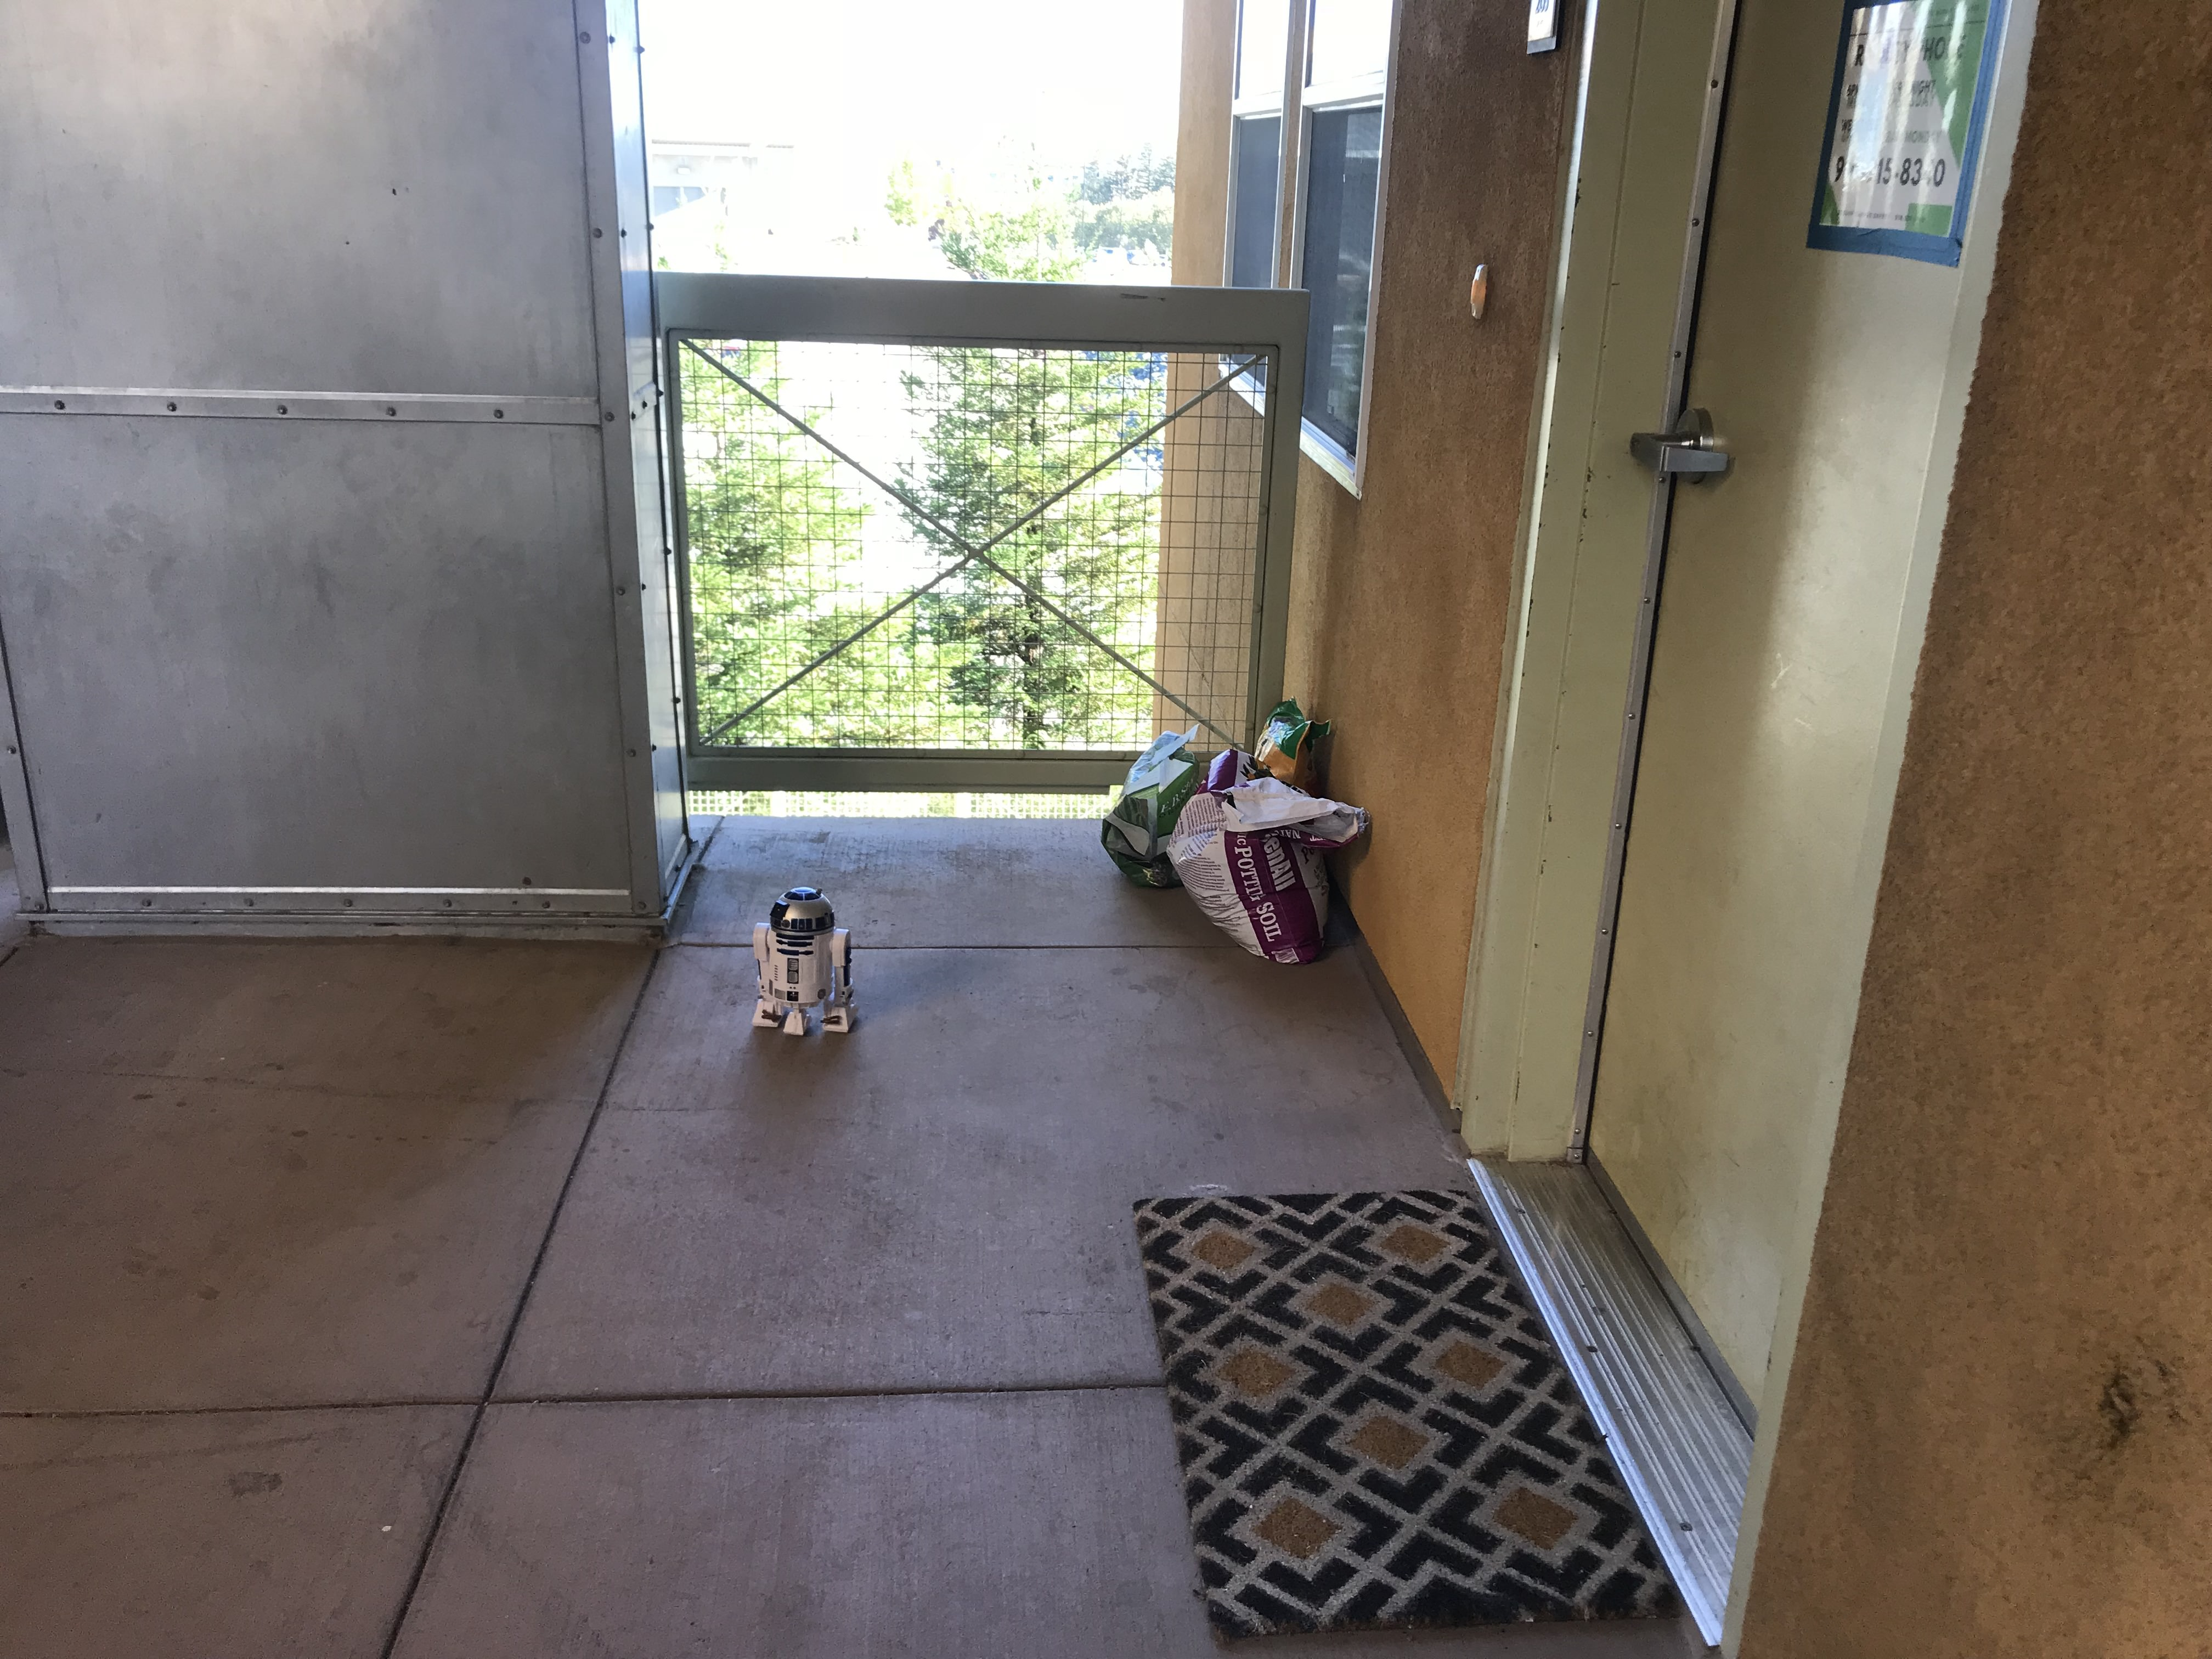r2d2: (752, 887, 859, 1040)
